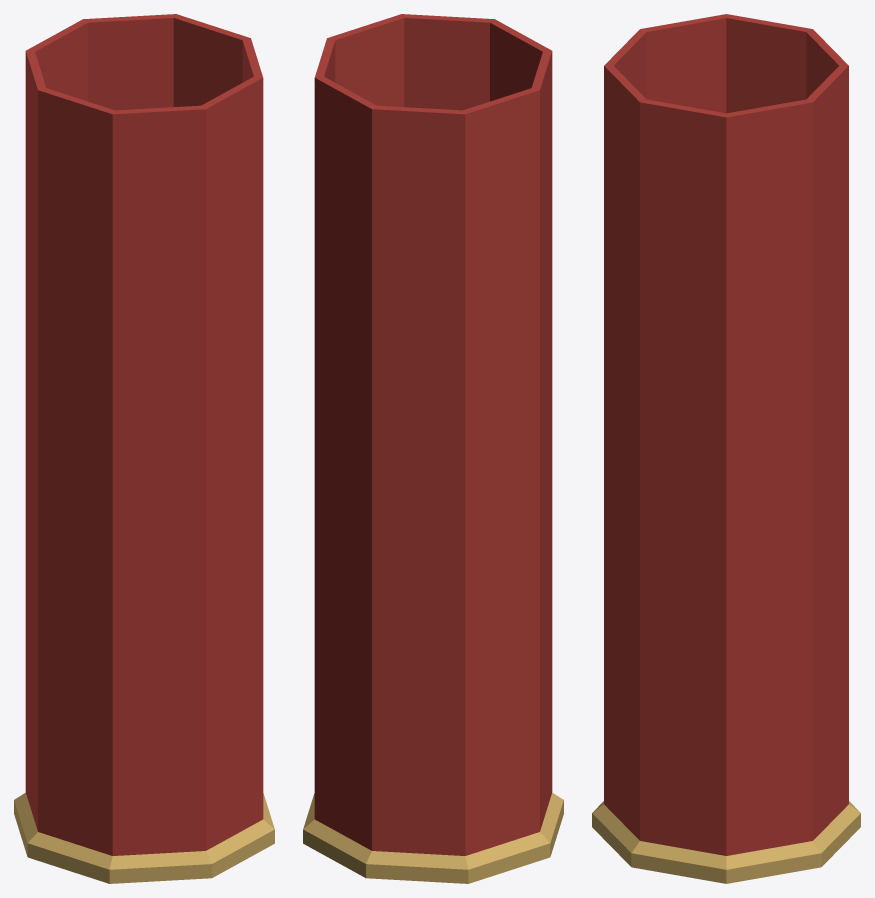
The model's file is case_12ga.glb.
The picture shows the model from 3 angles, left to right: view 1: azimuth 30°, elevation 25°; view 2: azimuth 150°, elevation 25°; view 3: azimuth 270°, elevation 25°; orthographic projection.
Parts seen in each view (by area): view 1: case_12ga; view 2: case_12ga; view 3: case_12ga.
Part boxes in pixels (left/top/right/bottom): case_12ga: left=14, top=14, right=274, bottom=883; case_12ga: left=303, top=14, right=563, bottom=883; case_12ga: left=592, top=14, right=860, bottom=883.
Bounding box in the file's own units: 0.0224 × 0.07 × 0.0224.
